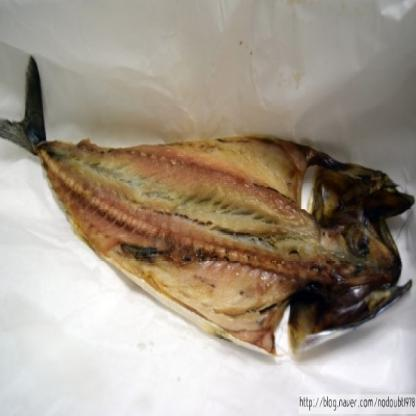Peixe: (0, 91, 416, 367)
